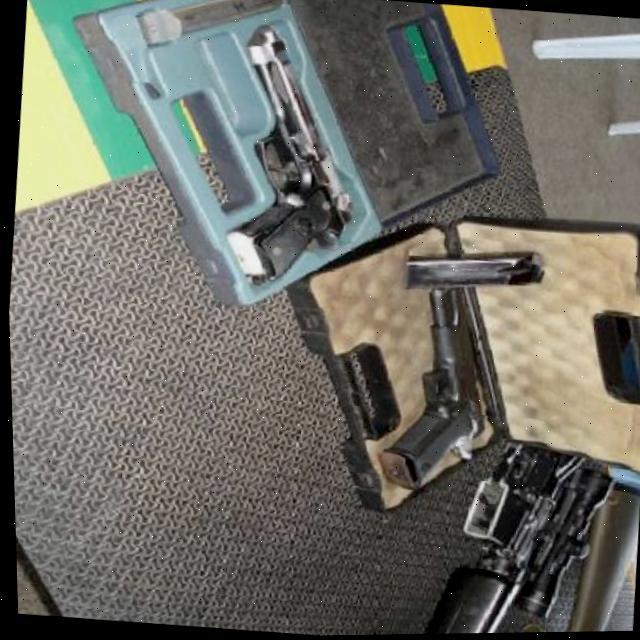gun: (215, 27, 375, 294), (368, 283, 494, 496)
